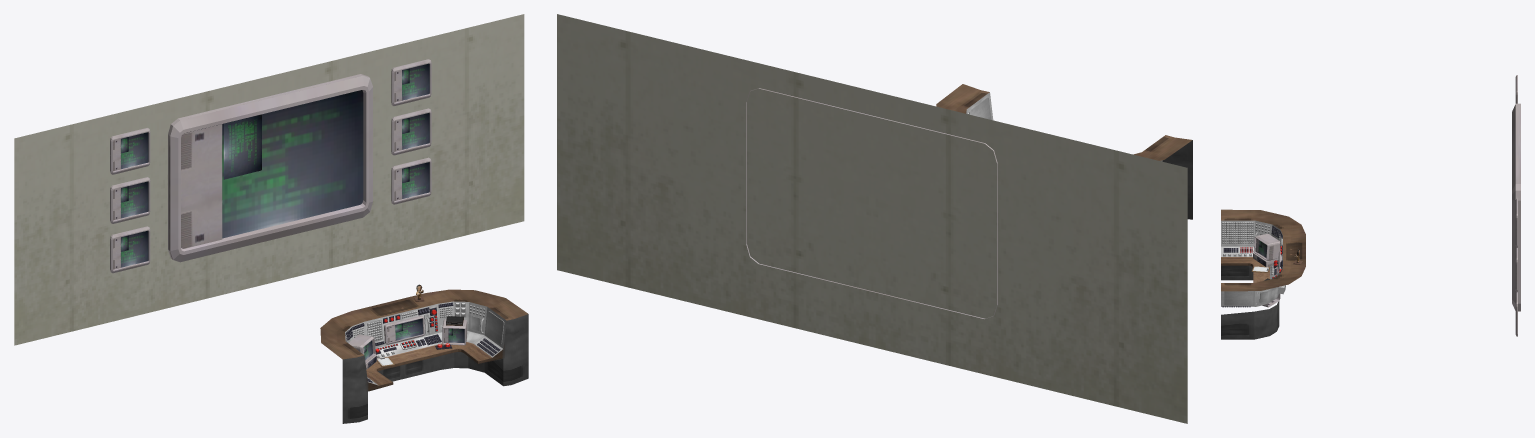
The model's file is SalaDeMandos.fbx.
3 views of the same model, side by side, from view 1: azimuth 30°, elevation 25°; view 2: azimuth 150°, elevation 25°; view 3: azimuth 270°, elevation 25° (orthographic). The views are drawn at different scales.
Parts seen in each view (by area): view 1: Pared, ScreenDecoration.002, Table, ScreenDecoration.037, ScreenDecoration.001, ScreenDecoration.003, Screen_Satelites; view 2: Pared, Table, ScreenDecoration.002; view 3: Table, ScreenDecoration.002, Screen_Signals, ScreenDecoration.037, MetalicPanel.038.
Boxes of the visible parts, x1,y1,x2,y2 form: Pared: [14, 14, 524, 345]; ScreenDecoration.002: [168, 74, 372, 262]; Table: [320, 289, 528, 423]; ScreenDecoration.037: [110, 59, 431, 273]; ScreenDecoration.001: [181, 114, 261, 248]; ScreenDecoration.003: [113, 68, 409, 269]; Screen_Satelites: [384, 315, 424, 344]; Pared: [557, 14, 1187, 423]; Table: [936, 84, 1192, 219]; ScreenDecoration.002: [746, 88, 997, 319]; Table: [1221, 209, 1305, 339]; ScreenDecoration.002: [1512, 103, 1520, 311]; Screen_Signals: [1253, 234, 1280, 260]; ScreenDecoration.037: [1515, 75, 1517, 336]; MetalicPanel.038: [1224, 291, 1252, 305].
Size of the model in its own units: 5597 by 2173 by 3172.
13 materials, 13 textured.
